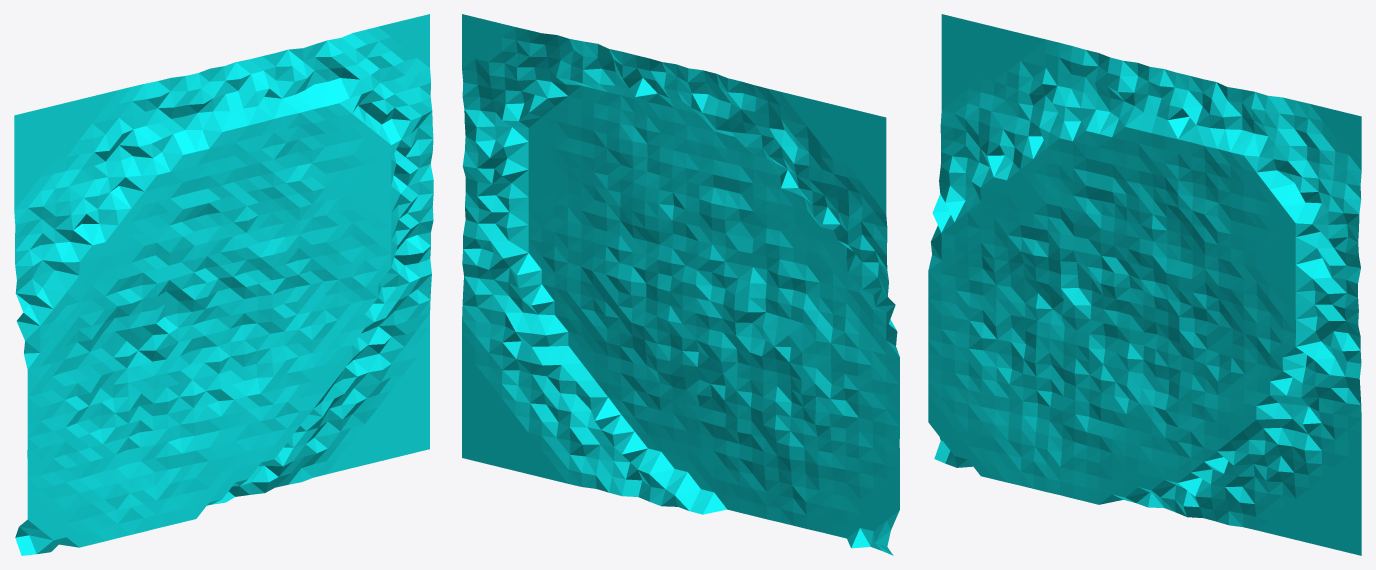
Rendered from rumput.fbx.
The picture shows the model from 3 angles, left to right: view 1: azimuth 30°, elevation 25°; view 2: azimuth 150°, elevation 25°; view 3: azimuth 330°, elevation 25°; orthographic projection. The views are drawn at different scales.
Parts seen in each view (by area): view 1: Plane.001; view 2: Plane.001; view 3: Plane.001.
Boxes of the visible parts, left/top/right/bottom form: Plane.001: left=14, top=14, right=433, bottom=555; Plane.001: left=462, top=14, right=899, bottom=555; Plane.001: left=928, top=14, right=1361, bottom=555.
Bounding box in the file's own units: 1015 × 1015 × 56.34.
